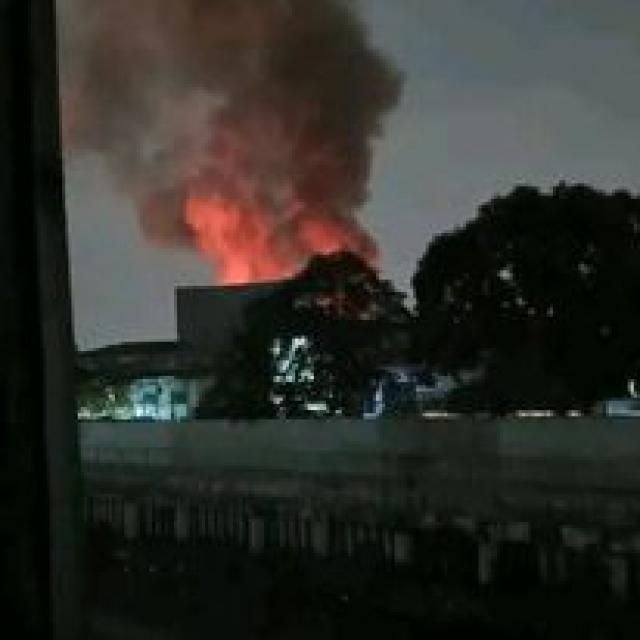Fire: (184, 194, 378, 276)
Smoke: (70, 3, 406, 219)
